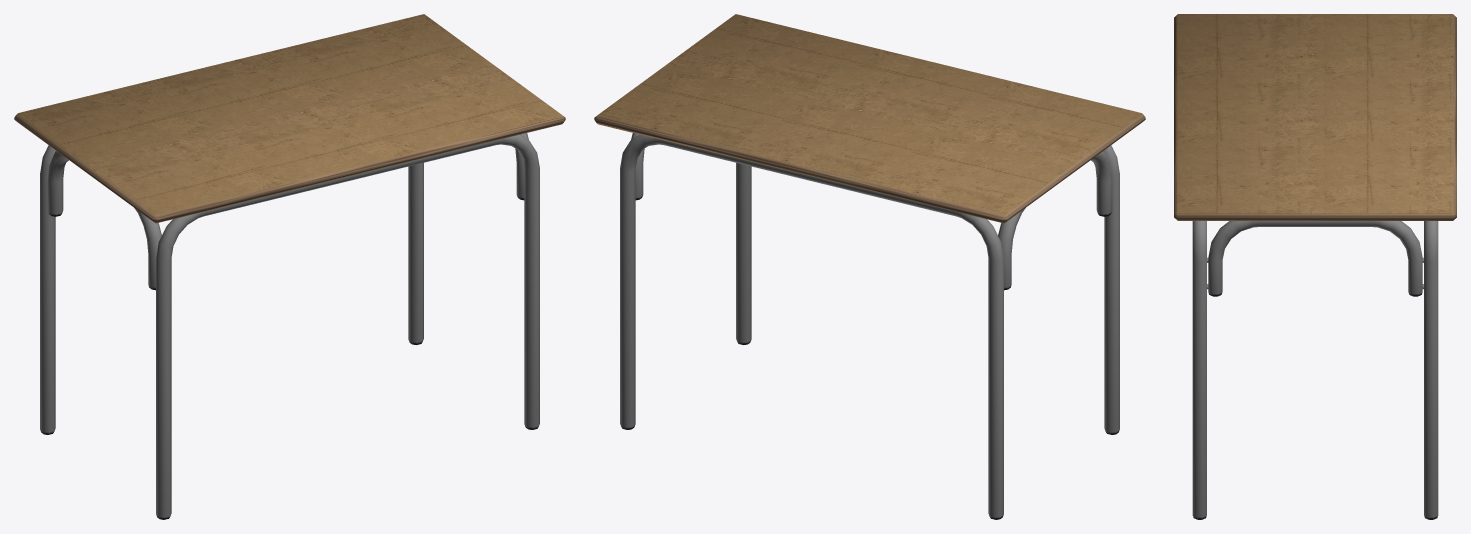
The model's file is lawka.fbx.
3 renders of one model, left to right at view 1: azimuth 30°, elevation 25°; view 2: azimuth 150°, elevation 25°; view 3: azimuth 270°, elevation 25°, orthographic.
Visible parts, largest first — view 1: Auxiliary desk LP; view 2: Auxiliary desk LP; view 3: Auxiliary desk LP.
Boxes of the visible parts, bbox=[...] form: Auxiliary desk LP: bbox=[14, 14, 565, 519]; Auxiliary desk LP: bbox=[594, 14, 1145, 519]; Auxiliary desk LP: bbox=[1174, 14, 1456, 519].
Size of the model in its own units: 91.68 by 67.31 by 54.52.
Materials: 1 (1 with a texture image).
